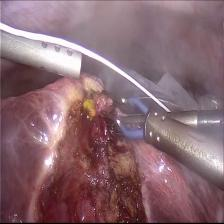Bipolar: (92, 79, 158, 151)
Irrigator: (24, 31, 85, 83)
Specimen Bag: (97, 64, 224, 114)
